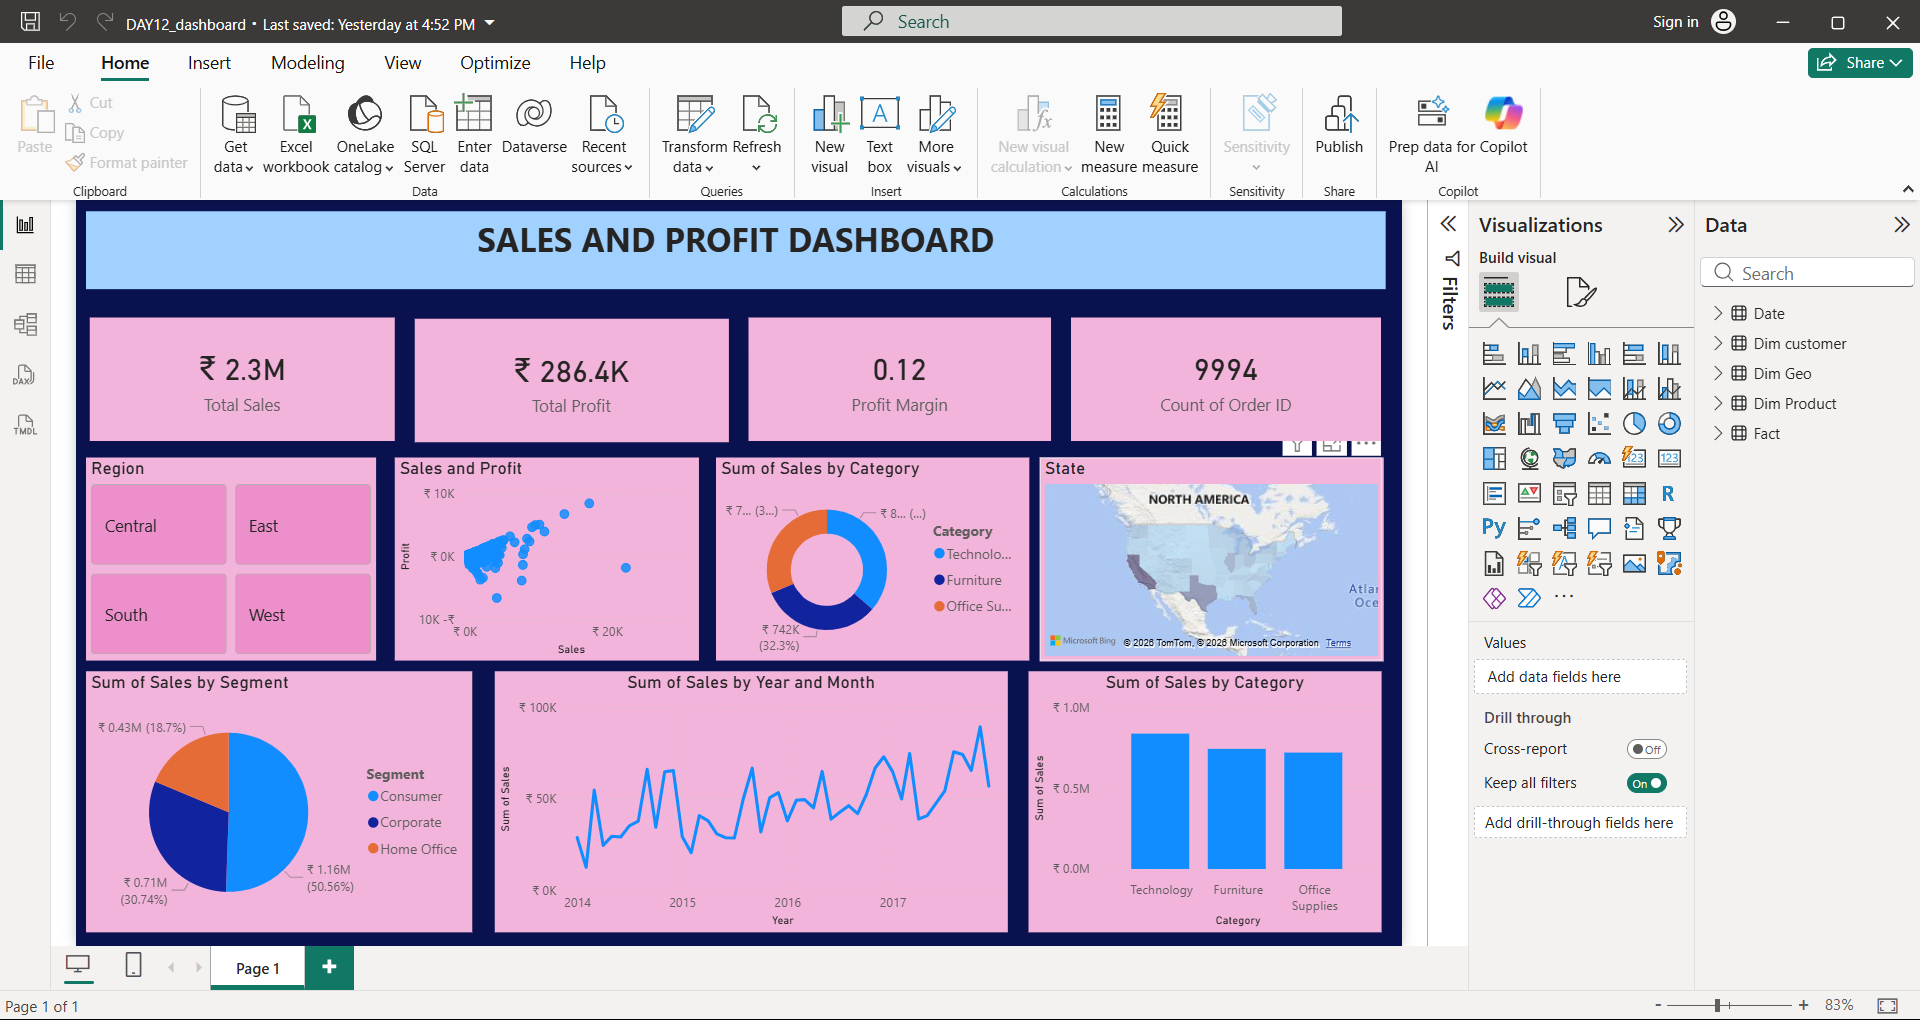

Layout of this report page (visuals, bound fields, positions):
{"tool":"powerbi","page":{"name":"Page 1","canvas":[1280,720],"ordinal":0},"visuals":[{"type":"pieChart","fields":{"Category":["Dim customer.Segment"],"Y":["Sum(Fact.Sales)"]},"box":[9.9,454.3,372.8,251.9],"z":0},{"type":"columnChart","fields":{"Category":["Dim Product.Category"],"Y":["Sum(Fact.Sales)"]},"box":[919.8,454.3,340.7,251.9],"z":1000},{"type":"lineChart","fields":{"Y":["Sum(Fact.Sales)"],"Category":["Date.Order Date.Variation.Date Hierarchy.Year","Date.Order Date.Variation.Date Hierarchy.Month"]},"box":[403.7,454.3,495.1,251.9],"z":2000},{"type":"card","fields":{"Values":["Fact.Total Sales"]},"box":[13.3,113.4,294.4,119.4],"z":3000},{"type":"card","fields":{"Values":["Date.Total Profit"]},"box":[326.7,114.6,302.8,119.4],"z":4000},{"type":"card","fields":{"Values":["Fact.Profit Margin"]},"box":[649.1,113.4,292,119.4],"z":5000},{"type":"advancedSlicerVisual","fields":{"Values":["Dim Geo.Region"]},"box":[9.9,248.1,280.2,196.3],"z":6000},{"type":"scatterChart","fields":{"X":["Fact.Sales"],"Y":["Fact.Profit"]},"box":[307.4,248.1,293.8,196.3],"z":7000},{"type":"donutChart","fields":{"Category":["Dim Product.Category"],"Y":["Sum(Fact.Sales)"]},"box":[617.3,248.1,302.5,196.3],"z":8000},{"type":"filledMap","fields":{"Category":["Dim Geo.State"]},"box":[929.6,248.1,330.9,196.3],"z":9000},{"type":"textbox","box":[9.9,11.1,1254.3,75.3],"z":10000},{"type":"card","fields":{"Values":["CountNonNull(Fact.Order ID)"]},"box":[960.3,113.4,299.2,119.4],"z":10002}]}

Visuals, with their boxes on the page's 1280x720 design canvas (x1, y1, x2, y2). These are canvas units, not pixel positions in the 1920x1020 screenshot, which may show the page scaled, cropped or inside an application window:
pieChart - Dim customer.Segment x Sum(Fact.Sales): 10:454:383:706
columnChart - Dim Product.Category x Sum(Fact.Sales): 920:454:1260:706
lineChart - Sum(Fact.Sales) x Date.Order Date.Variation.Date Hierarchy.Year: 404:454:899:706
card - Fact.Total Sales: 13:113:308:233
card - Date.Total Profit: 327:115:630:234
card - Fact.Profit Margin: 649:113:941:233
advancedSlicerVisual - Dim Geo.Region: 10:248:290:444
scatterChart - Fact.Sales x Fact.Profit: 307:248:601:444
donutChart - Dim Product.Category x Sum(Fact.Sales): 617:248:920:444
filledMap - Dim Geo.State: 930:248:1260:444
textbox: 10:11:1264:86
card - CountNonNull(Fact.Order ID): 960:113:1260:233
